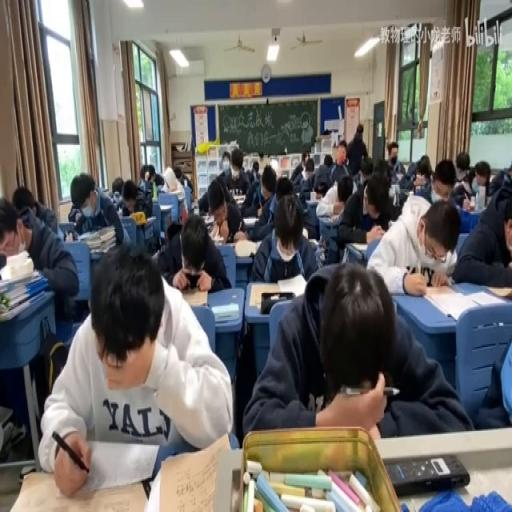calculator: (7, 462, 151, 512), (421, 283, 501, 317), (248, 282, 283, 308), (277, 272, 306, 297), (210, 300, 238, 322), (179, 287, 209, 307), (483, 283, 512, 300), (234, 238, 257, 256), (391, 185, 410, 206), (313, 239, 326, 267), (58, 219, 76, 236), (200, 214, 215, 234), (348, 240, 367, 250), (210, 233, 224, 245), (242, 214, 258, 224), (326, 212, 341, 222), (232, 192, 246, 202), (308, 238, 318, 248), (144, 216, 156, 223), (306, 198, 320, 204), (159, 204, 172, 210)
paper: (40, 240, 230, 494), (243, 259, 467, 442), (2, 189, 79, 322), (453, 173, 512, 288), (250, 195, 319, 284), (157, 205, 229, 289), (335, 169, 394, 256), (66, 172, 126, 240), (473, 327, 512, 430), (158, 165, 188, 223), (221, 145, 251, 201), (120, 174, 150, 219), (451, 154, 478, 200), (328, 140, 354, 186), (401, 151, 429, 192), (294, 155, 320, 198), (486, 158, 512, 196), (384, 141, 404, 183), (13, 186, 36, 216), (431, 173, 453, 202), (274, 175, 291, 200), (371, 158, 390, 179), (474, 162, 490, 186), (358, 162, 372, 188), (139, 163, 155, 185), (256, 151, 270, 175), (111, 176, 124, 198), (154, 172, 166, 189), (112, 199, 124, 215), (302, 146, 311, 166), (180, 178, 192, 193), (173, 166, 182, 184), (316, 182, 327, 195), (322, 154, 332, 165), (361, 141, 367, 158), (252, 160, 259, 174), (356, 124, 362, 136)
person: (383, 452, 469, 494), (184, 269, 200, 287)
